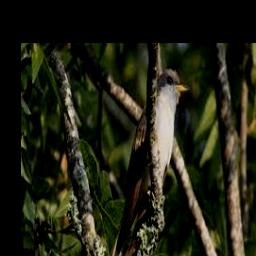Cuckoo: (109, 69, 190, 256)
